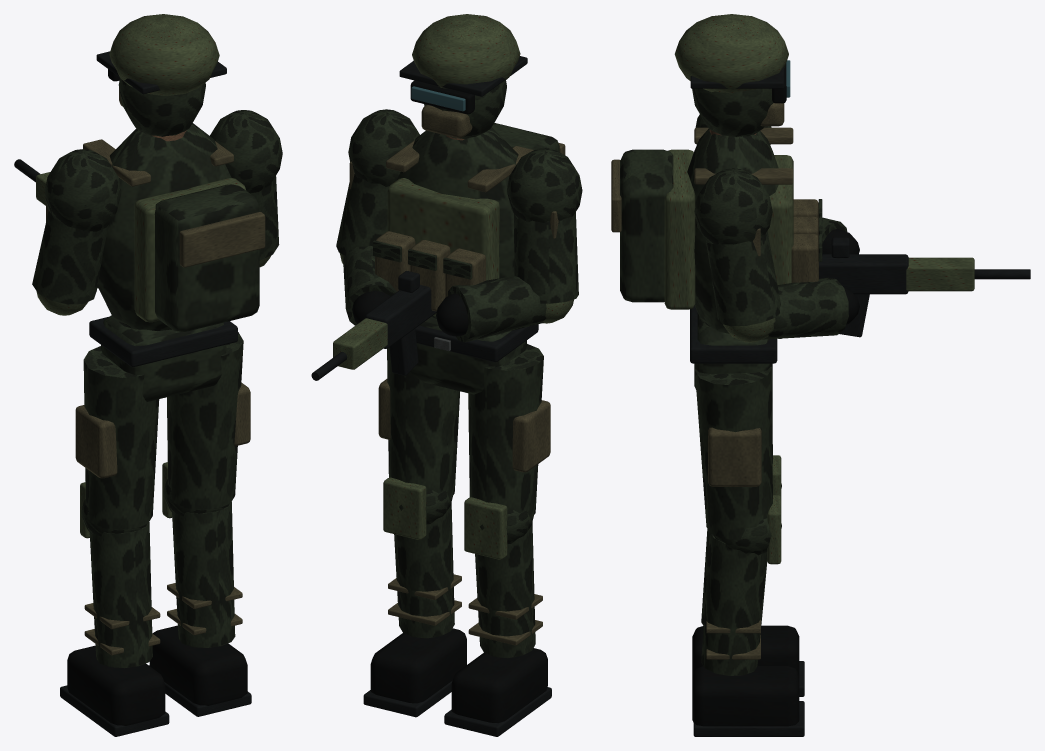
Rendered from soldier.glb.
3 renders of one model, left to right at view 1: azimuth 30°, elevation 25°; view 2: azimuth 150°, elevation 25°; view 3: azimuth 270°, elevation 25°, orthographic.
Parts seen in each view (by area): view 1: body_fabric, leg_l_fabric, leg_r_fabric, body_olive, arm_l_fabric, leg_l_rubber, arm_r_fabric, leg_r_rubber, body_webbing, body_darksteel, leg_l_webbing, leg_r_webbing (+3 smaller); view 2: leg_l_fabric, body_olive, leg_r_fabric, body_fabric, arm_l_fabric, arm_r_fabric, body_darksteel, body_webbing, leg_l_rubber, leg_r_rubber, leg_l_webbing, leg_r_olive (+9 smaller); view 3: body_fabric, leg_r_fabric, body_olive, arm_r_fabric, body_darksteel, leg_r_rubber, body_webbing, leg_r_webbing, leg_l_rubber, leg_r_darksteel, leg_r_olive, arm_r_olive.
Part boxes in pixels (x1,y1,x2,y2): body_fabric: (97,78,259,401); leg_l_fabric: (81,346,159,668); leg_r_fabric: (163,332,243,647); body_olive: (36,14,246,322); arm_l_fabric: (32,149,121,304); leg_l_rubber: (67,645,165,725); arm_r_fabric: (210,110,282,260); leg_r_rubber: (149,625,247,705); body_webbing: (83,88,265,267); body_darksteel: (14,51,237,366); leg_l_webbing: (75,405,160,655); leg_r_webbing: (167,382,250,635); leg_l_fabric: (468,344,543,658); body_olive: (333,14,520,369); leg_r_fabric: (387,347,460,638); body_fabric: (373,80,559,394); arm_l_fabric: (448,148,582,342); arm_r_fabric: (336,109,419,325); body_darksteel: (311,56,538,380); body_webbing: (375,105,565,311); leg_l_rubber: (451,648,547,723); leg_r_rubber: (370,628,466,703); leg_l_webbing: (468,400,550,645); leg_r_olive: (383,477,426,539); body_fabric: (620,88,822,389); leg_r_fabric: (695,366,781,675); body_olive: (664,14,974,309); arm_r_fabric: (694,168,848,339); body_darksteel: (690,67,1030,363); leg_r_rubber: (692,665,799,726); body_webbing: (611,103,818,282); leg_r_webbing: (706,427,761,659); leg_l_rubber: (692,625,799,676); leg_r_darksteel: (693,701,804,736); leg_r_olive: (767,495,781,564); arm_r_olive: (723,318,775,342).
Bounding box in the file's own units: 0.6663 × 1.83 × 1.02.
Materials: 8 (7 with a texture image).
